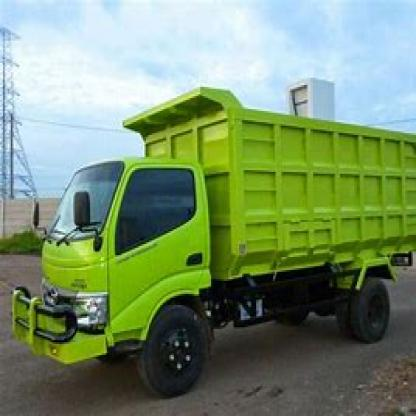dump_truck: (9, 70, 413, 386)
